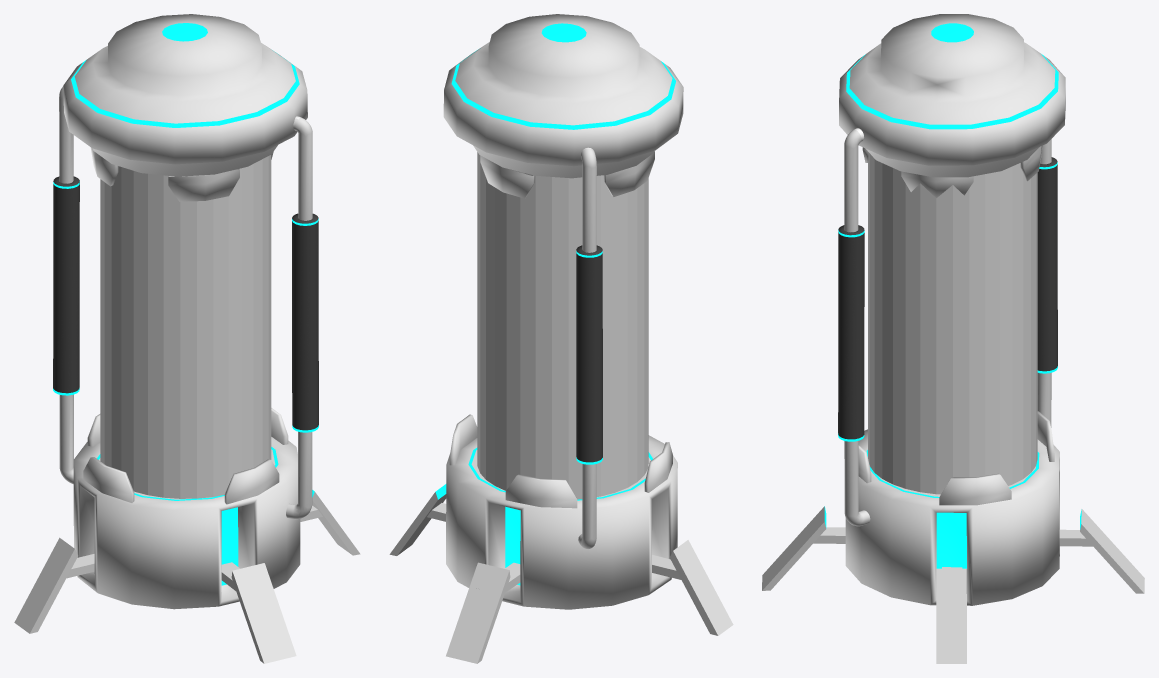
3 renders of one model, left to right at view 1: azimuth 30°, elevation 25°; view 2: azimuth 150°, elevation 25°; view 3: azimuth 270°, elevation 25°, orthographic.
Parts seen in each view (by area): view 1: Cube, scan_lines_mesh, Cylinder.002; view 2: Cube, scan_lines_mesh, Cylinder.002; view 3: Cube, scan_lines_mesh, Cylinder.002.
Boxes of the visible parts, x1,y1,x2,y2 form: Cube: (14,14,360,663); scan_lines_mesh: (100,155,271,498); Cylinder.002: (53,23,318,585); Cube: (389,14,733,663); scan_lines_mesh: (477,152,648,499); Cylinder.002: (435,23,675,585); Cube: (762,14,1144,663); scan_lines_mesh: (868,152,1037,494); Cylinder.002: (824,23,1081,568).
Bounding box in the file's own units: 32.39 × 52.28 × 32.93.
Materials: 4 (1 with a texture image).
